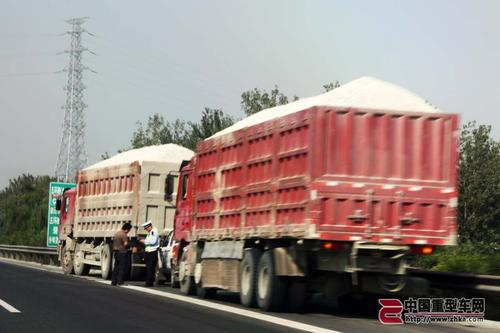chaozhai: (191, 74, 462, 328), (57, 145, 180, 292)
